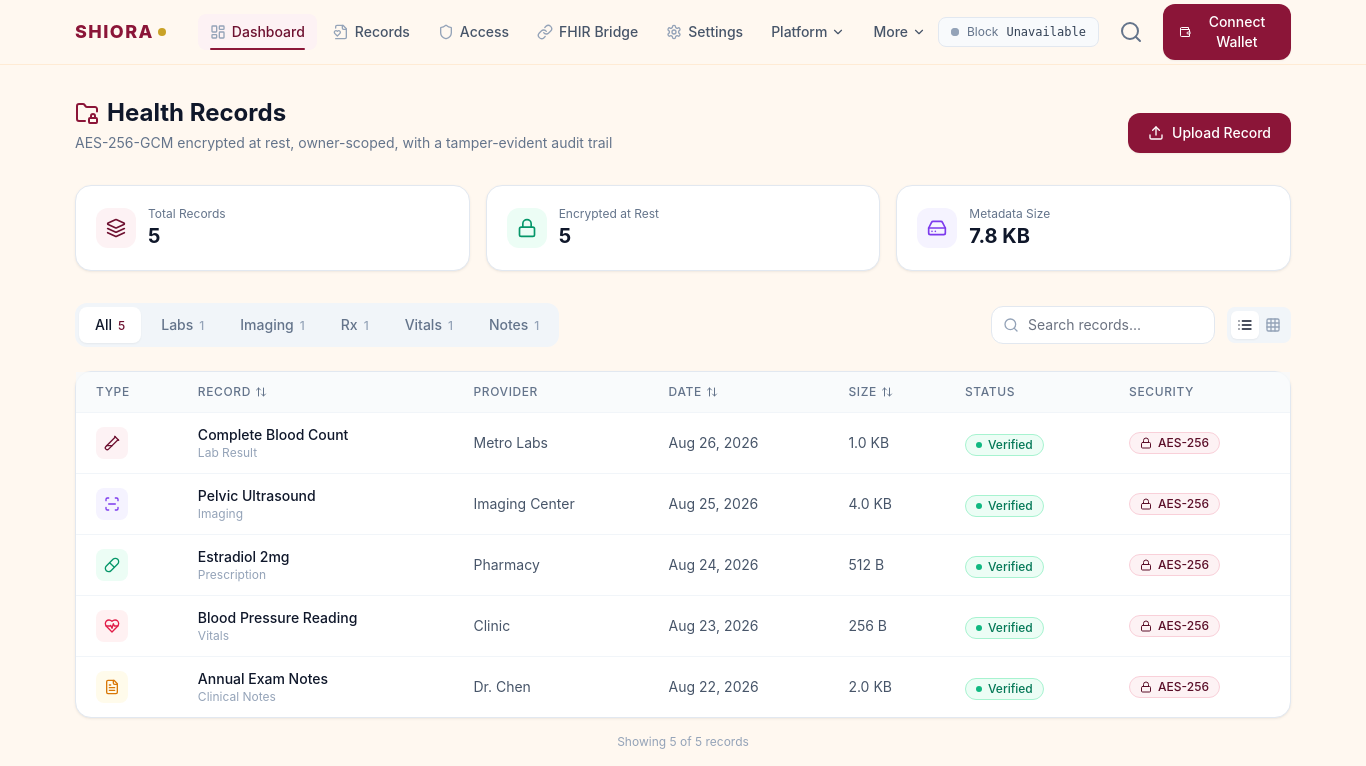
Test: RecordsPage › toggles between list and grid view
Check: the table is shown, box [76,372,1290,717]
Switch to grid view
What coordinates should you click on to do the following:
click the button named "Grid view"
I would click on:
 (1273, 325)
Its box is [1259,311,1287,339].
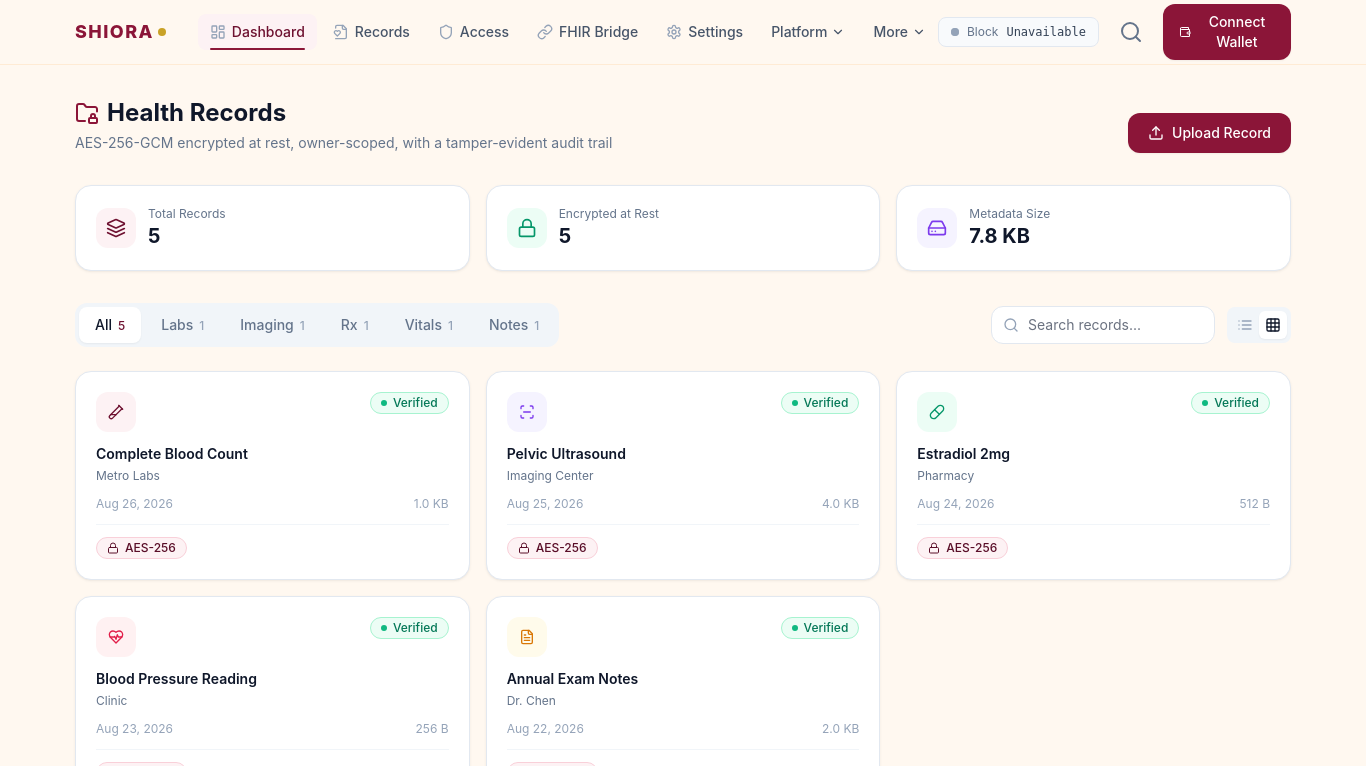
Check: the table is gone
Switch back to list view
What coordinates should you click on to do the following:
click the button named "List view"
I would click on:
 (1245, 325)
Its box is [1231,311,1259,339].
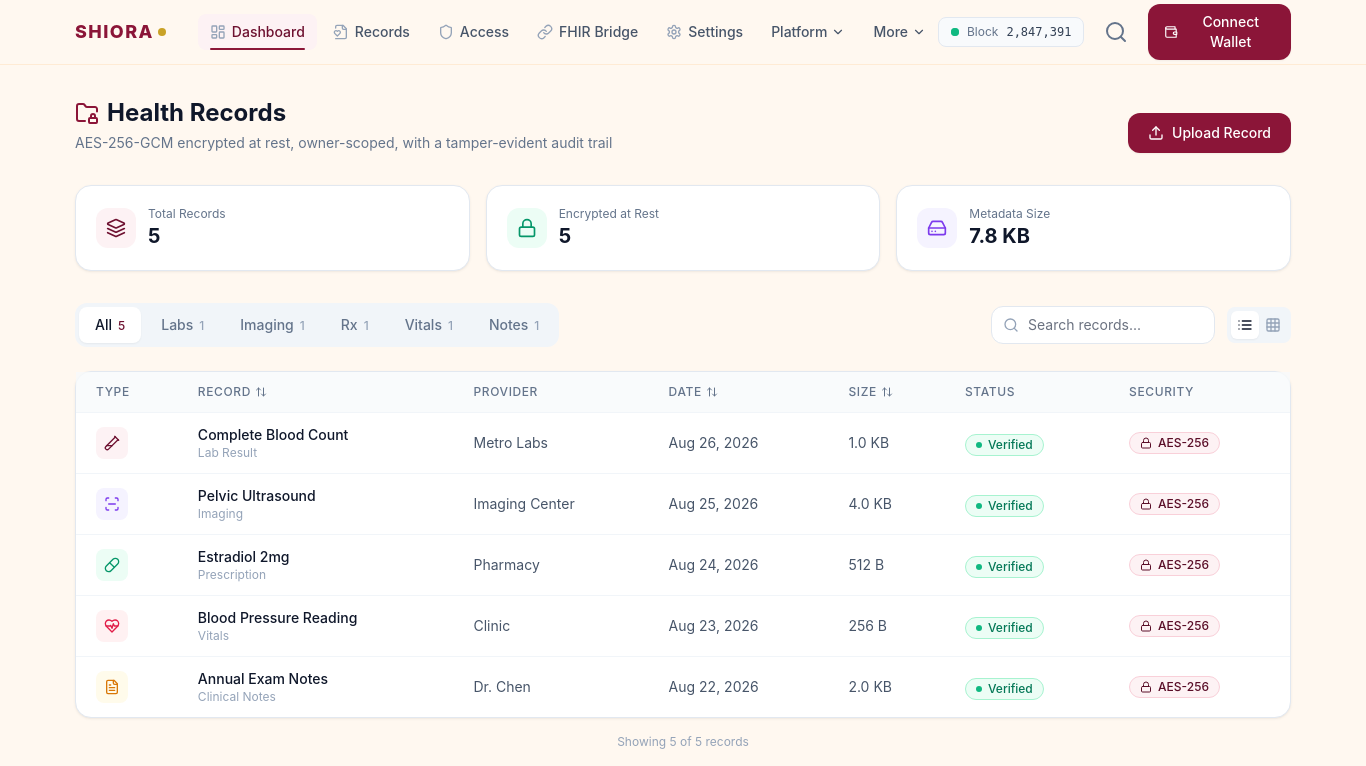
Check: the table is shown, box [76,372,1290,717]
